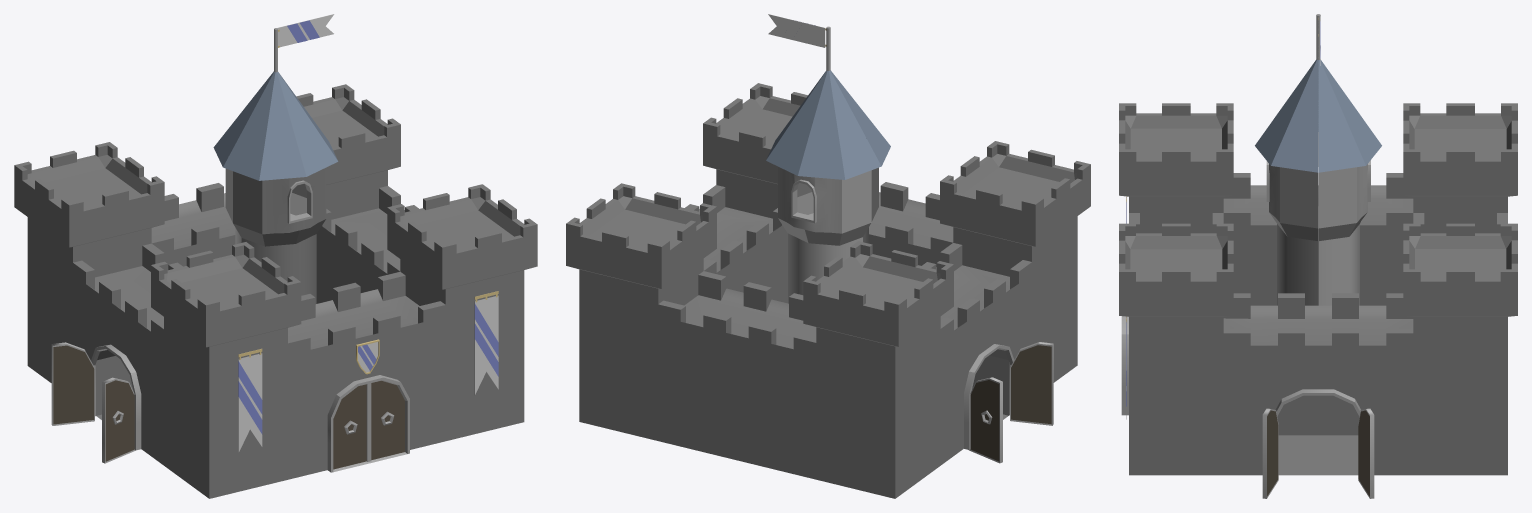
The model's file is castle_blue_06.fbx.
3 views of the same model, side by side, from view 1: azimuth 30°, elevation 25°; view 2: azimuth 150°, elevation 25°; view 3: azimuth 270°, elevation 25° (orthographic). The views are drawn at different scales.
Visible parts, largest first — view 1: pasted__pCube1, pCube22, pCube1, polySurface14, polySurface10, pCube47, pCube48, pTorus5, pCube50, pCube28; view 2: pasted__pCube1, pCube22, polySurface10, polySurface14, pCube50, pTorus5; view 3: pasted__pCube1, pCube22, pCube43, pCube10, pCube1, polySurface1.
Boxes of the visible parts, box(x1,y1,x2,y2) form: pasted__pCube1: box(14, 84, 537, 498); pCube22: box(213, 28, 338, 303); pCube1: box(327, 375, 409, 472); polySurface14: box(51, 342, 94, 425); polySurface10: box(102, 377, 135, 463); pCube47: box(238, 348, 262, 452); pCube48: box(474, 291, 498, 394); pTorus5: box(91, 344, 141, 450); pCube50: box(277, 14, 334, 47); pCube28: box(356, 339, 379, 374); pasted__pCube1: box(566, 83, 1090, 498); pCube22: box(766, 26, 890, 303); polySurface10: box(1010, 342, 1053, 425); polySurface14: box(969, 377, 1002, 463); pCube50: box(768, 14, 825, 47); pTorus5: box(964, 344, 1014, 449); pasted__pCube1: box(1119, 103, 1517, 475); pCube22: box(1255, 14, 1381, 305); pCube43: box(1358, 408, 1374, 498); pCube10: box(1262, 408, 1278, 498); pCube1: box(1121, 316, 1128, 415); polySurface1: box(1275, 389, 1360, 416).
Bounding box in the file's own units: 5.07 × 4.45 × 4.21.
